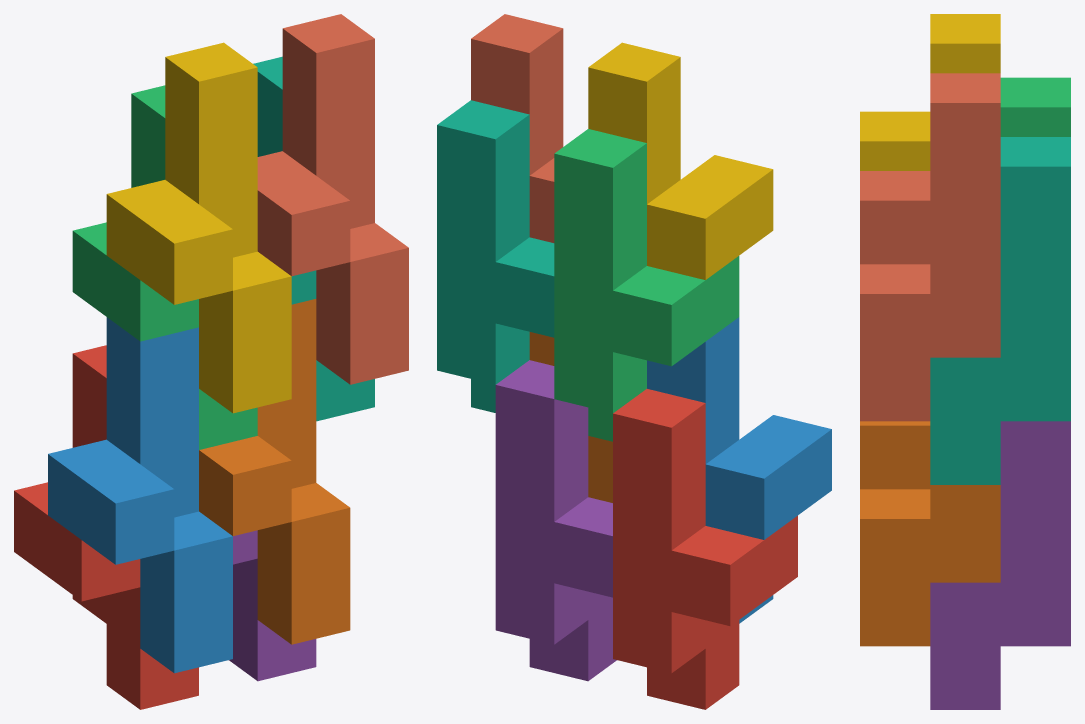
File: tiling.obj
The picture shows the model from 3 angles, left to right: view 1: azimuth 30°, elevation 25°; view 2: azimuth 150°, elevation 25°; view 3: azimuth 270°, elevation 25°; orthographic projection. The views are drawn at different scales.
Parts seen in each view (by area): view 1: copy_1_domain_4, copy_1_domain_2, copy_1_domain_8, copy_1_domain_6, copy_1_domain_1, copy_1_domain_3, copy_1_domain_5, copy_1_domain_7; view 2: copy_1_domain_1, copy_1_domain_3, copy_1_domain_5, copy_1_domain_7, copy_1_domain_4, copy_1_domain_2, copy_1_domain_8, copy_1_domain_6; view 3: copy_1_domain_8, copy_1_domain_7, copy_1_domain_5, copy_1_domain_6, copy_1_domain_4, copy_1_domain_3.
Part boxes in pixels (bbox=[...]): copy_1_domain_4: bbox=[106, 42, 291, 413]; copy_1_domain_2: bbox=[48, 317, 232, 673]; copy_1_domain_8: bbox=[257, 14, 408, 384]; copy_1_domain_6: bbox=[199, 299, 350, 644]; copy_1_domain_1: bbox=[14, 345, 198, 709]; copy_1_domain_3: bbox=[72, 85, 257, 449]; copy_1_domain_5: bbox=[229, 530, 316, 681]; copy_1_domain_7: bbox=[253, 56, 374, 421]; copy_1_domain_1: bbox=[613, 389, 797, 709]; copy_1_domain_3: bbox=[554, 129, 739, 441]; copy_1_domain_5: bbox=[495, 360, 616, 681]; copy_1_domain_7: bbox=[437, 100, 554, 412]; copy_1_domain_4: bbox=[588, 42, 773, 279]; copy_1_domain_2: bbox=[647, 317, 831, 623]; copy_1_domain_8: bbox=[471, 14, 563, 242]; copy_1_domain_6: bbox=[529, 332, 612, 502]; copy_1_domain_8: bbox=[860, 73, 1000, 421]; copy_1_domain_7: bbox=[930, 137, 1070, 484]; copy_1_domain_5: bbox=[930, 421, 1070, 709]; copy_1_domain_6: bbox=[860, 421, 1000, 646]; copy_1_domain_4: bbox=[860, 14, 1000, 170]; copy_1_domain_3: bbox=[1000, 77, 1070, 136].
Size of the model in its own units: 5 by 10 by 3.
